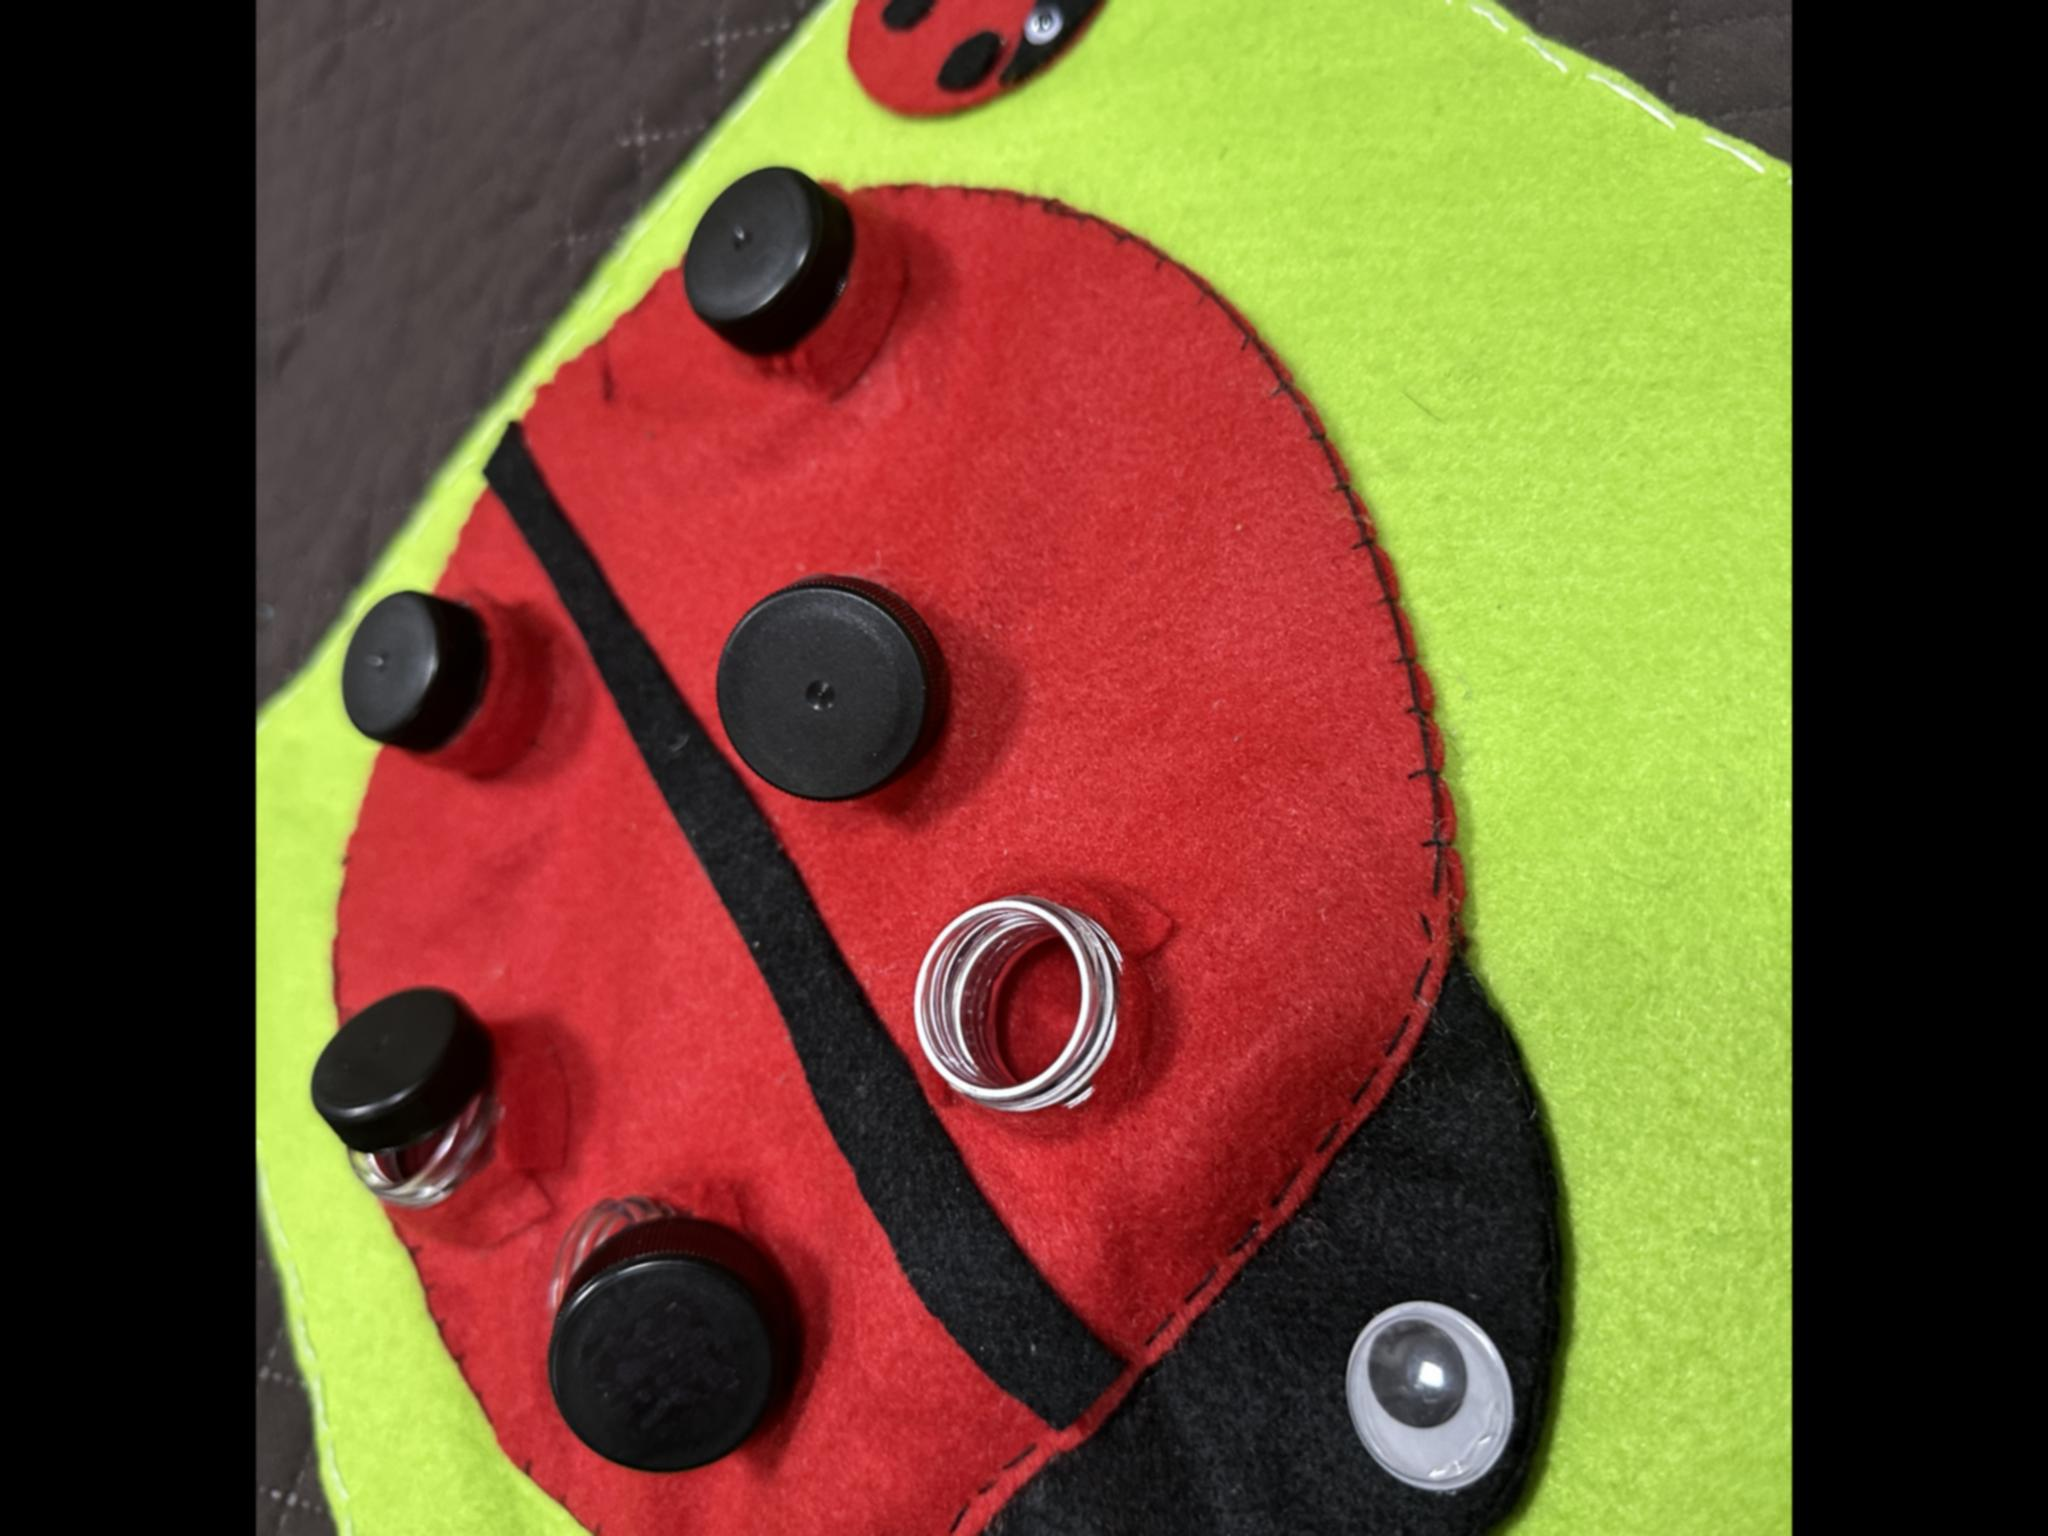cap_ng: (537, 1181, 818, 1491), (693, 561, 972, 808), (313, 971, 539, 1234)
cap_ok: (668, 148, 898, 419), (329, 584, 582, 802)
